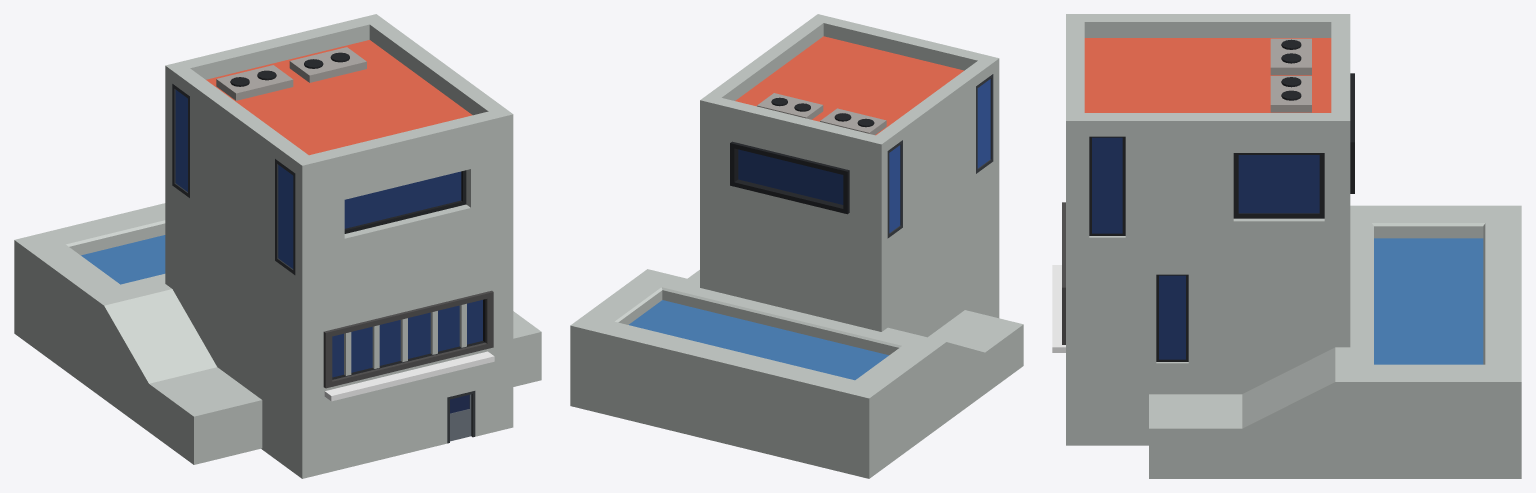
Rendered from Apartment_1.fbx.
The picture shows the model from 3 angles, left to right: view 1: azimuth 30°, elevation 25°; view 2: azimuth 150°, elevation 25°; view 3: azimuth 270°, elevation 25°; orthographic projection. The views are drawn at different scales.
Visible parts, largest first — view 1: Apartment_1; view 2: Apartment_1; view 3: Apartment_1.
Boxes of the visible parts, x1,y1,x2,y2 form: Apartment_1: [14, 14, 541, 478]; Apartment_1: [570, 14, 1023, 478]; Apartment_1: [1052, 14, 1521, 478].
Bounding box in the file's own units: 1054 × 907 × 1188.
